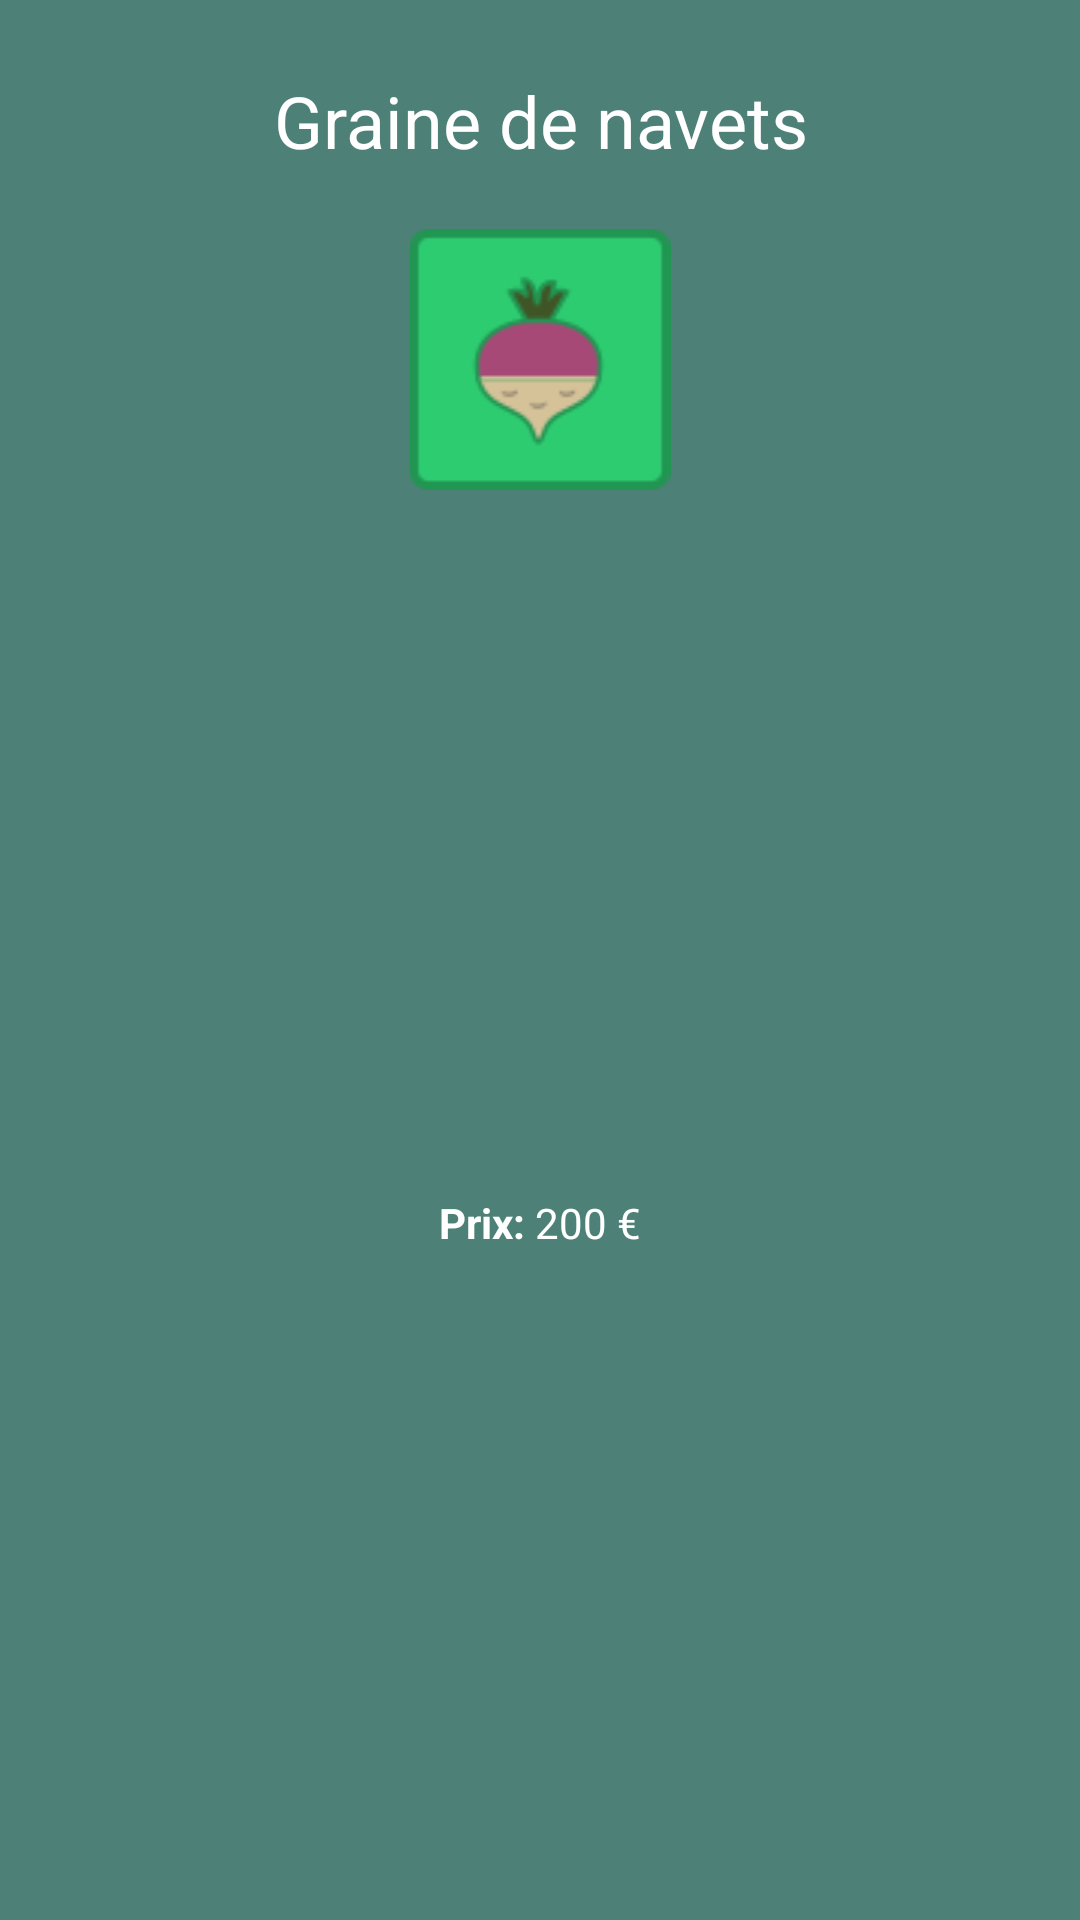

Where icons sit on this 1080x1920 app screen, as (x1=x1, y1=y1, x2=x2, y2=y2):
plot turnip ripe: (x1=410, y1=229, x2=671, y2=490)
